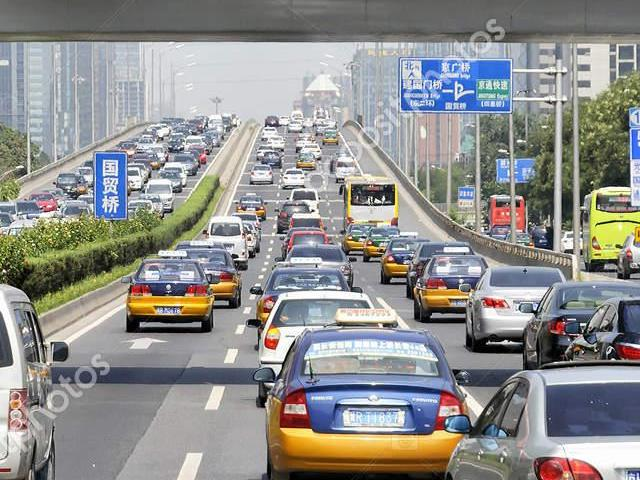bus: (578, 185, 640, 271), (339, 173, 402, 249), (487, 192, 526, 232)
